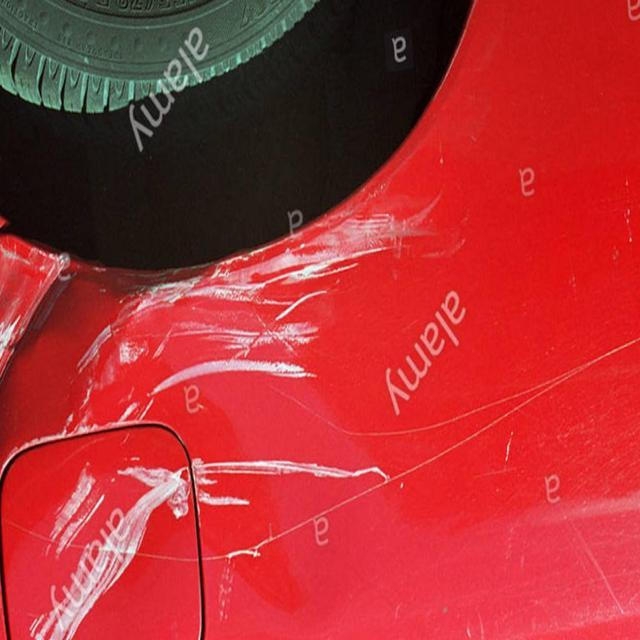scratch: (6, 188, 428, 622)
